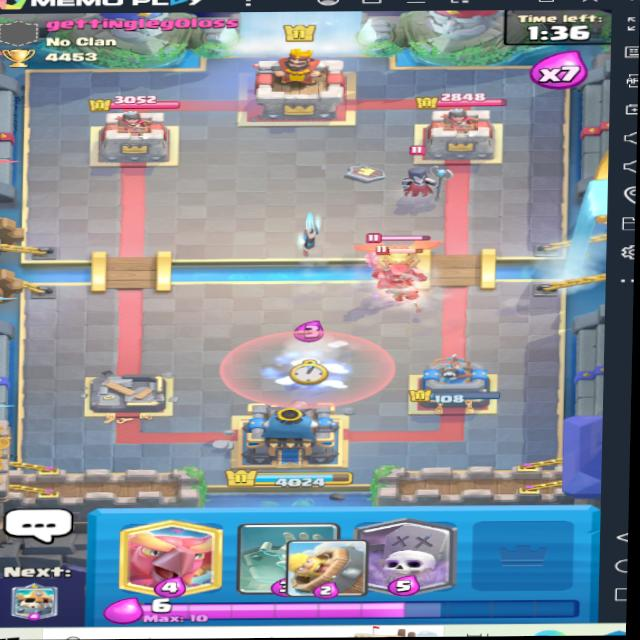Babydragon: (360, 237, 424, 278)
Darkprince: (373, 245, 444, 305)
Nightwitch: (395, 148, 444, 202)
